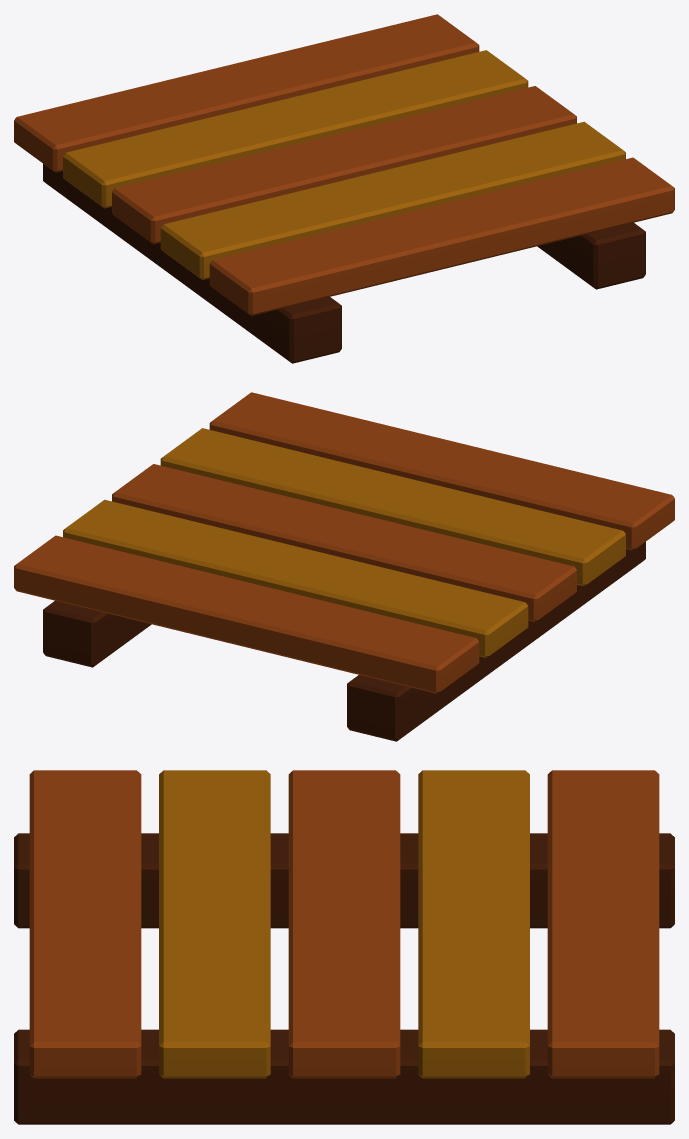
Rendered from bridge_wood.glb.
3 renders of one model, top to bottom at view 1: azimuth 30°, elevation 25°; view 2: azimuth 150°, elevation 25°; view 3: azimuth 270°, elevation 25°, orthographic. The views are drawn at different scales.
Visible parts, largest first — view 1: bridge_wood; view 2: bridge_wood; view 3: bridge_wood.
Boxes of the visible parts, x1,y1,x2,y2 form: bridge_wood: (14,14,674,363); bridge_wood: (14,392,674,741); bridge_wood: (14,770,674,1124).
Bounding box in the file's own units: 1.46 × 0.26 × 1.48.
